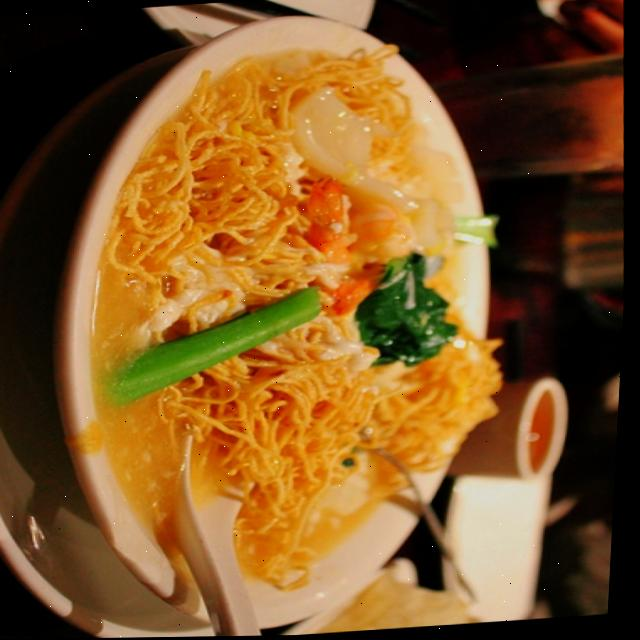面条主食: (78, 29, 545, 633)
